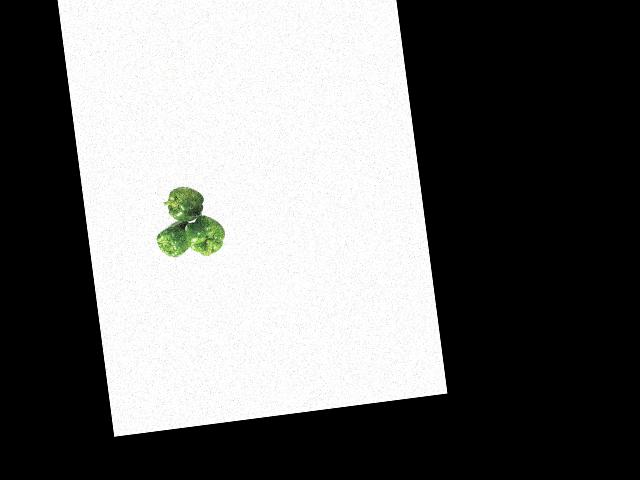bell_pepper: (182, 212, 231, 261)
